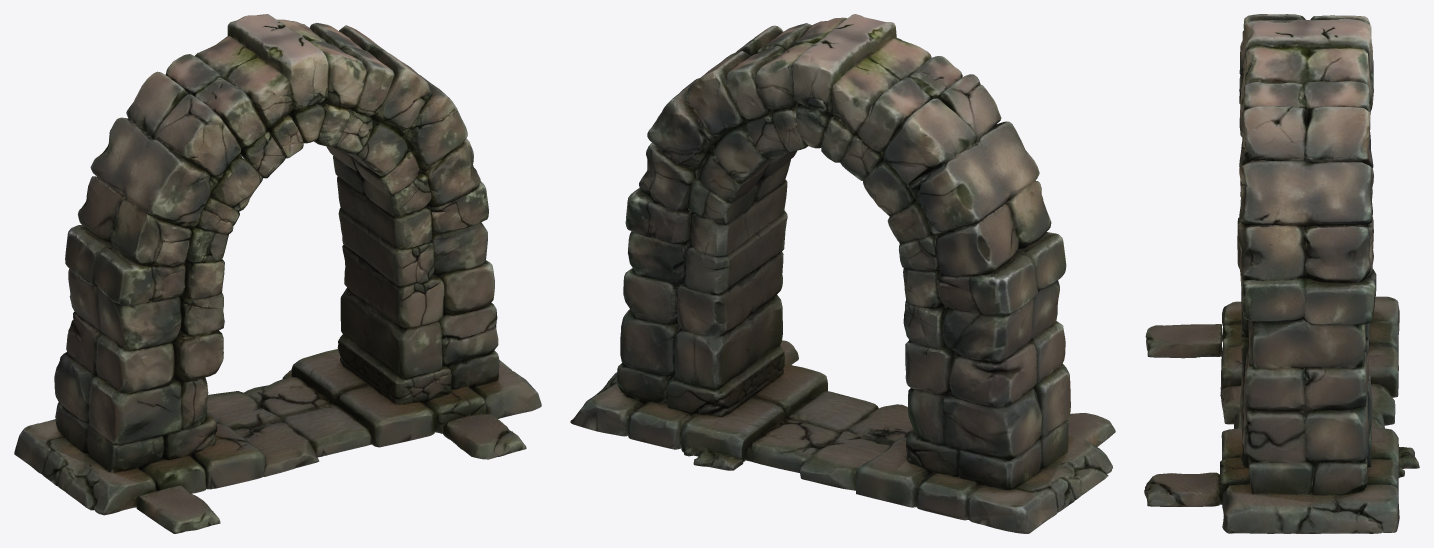
The model's file is gate__stone-archway.glb.
3 renders of one model, left to right at view 1: azimuth 30°, elevation 25°; view 2: azimuth 150°, elevation 25°; view 3: azimuth 270°, elevation 25°, orthographic. The views are drawn at different scales.
Size of the model in its own units: 1.9 by 1.61 by 1.01.
1 material, 1 textured.
